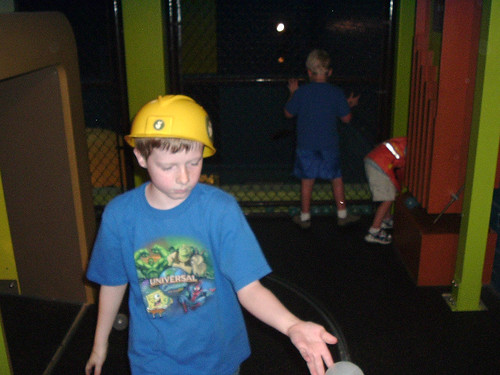person hardhat: (84, 95, 313, 375)
